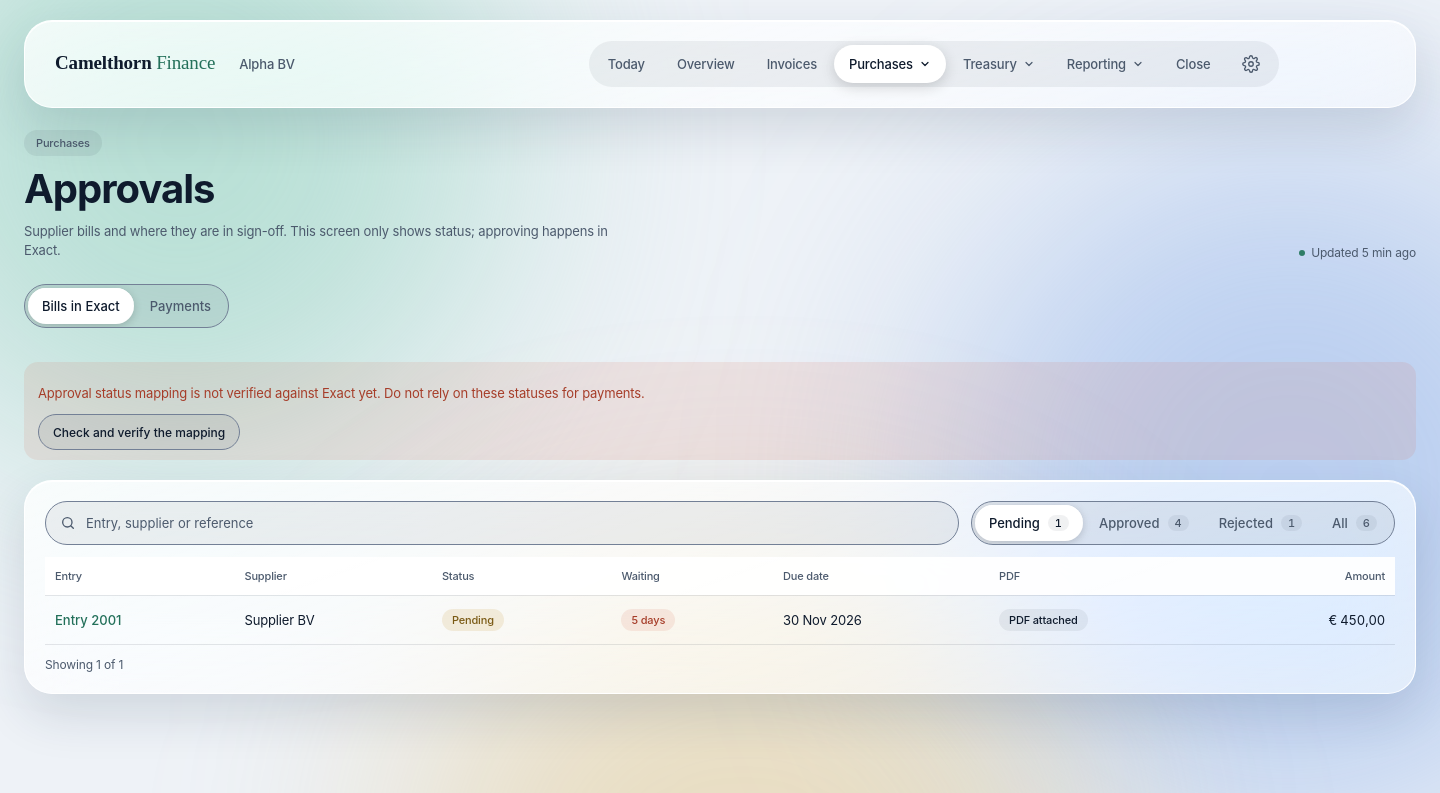
it: mapping not verified (review S2) › lets an admin check the raw codes and confirm, then reloads
Click the button "Check and verify the mapping": click(139, 432) [38,414,240,450]
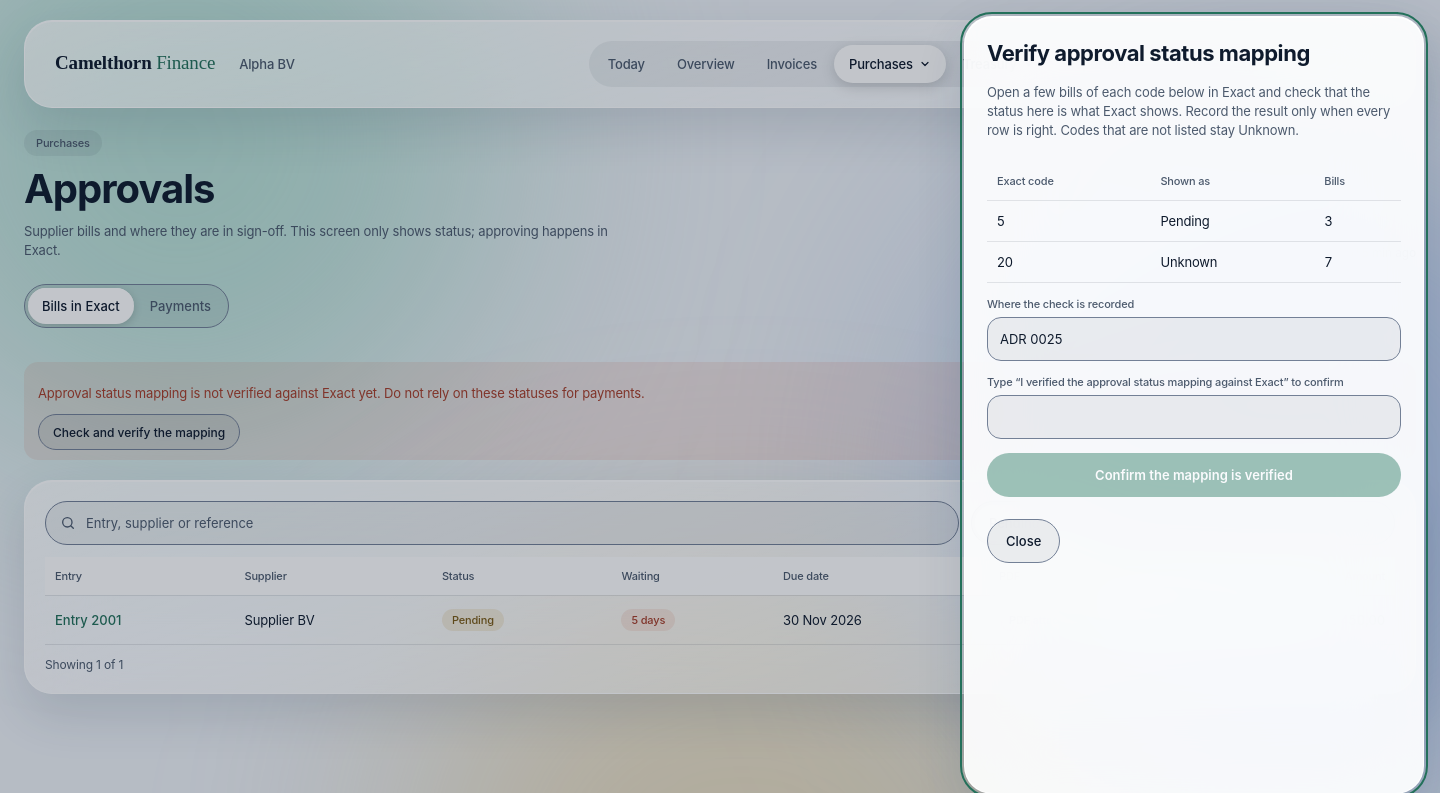
Check: the text "20" is shown, box [987,242,1150,282]
Check: the text "7" is shown, box [1314,242,1401,282]
Check: the button "Confirm the mapping is verified" is disabled, box [987,453,1401,497]
In the field labelled "to confirm": (1194, 417) [987,395,1401,439], type "I verified the approval status mapping"
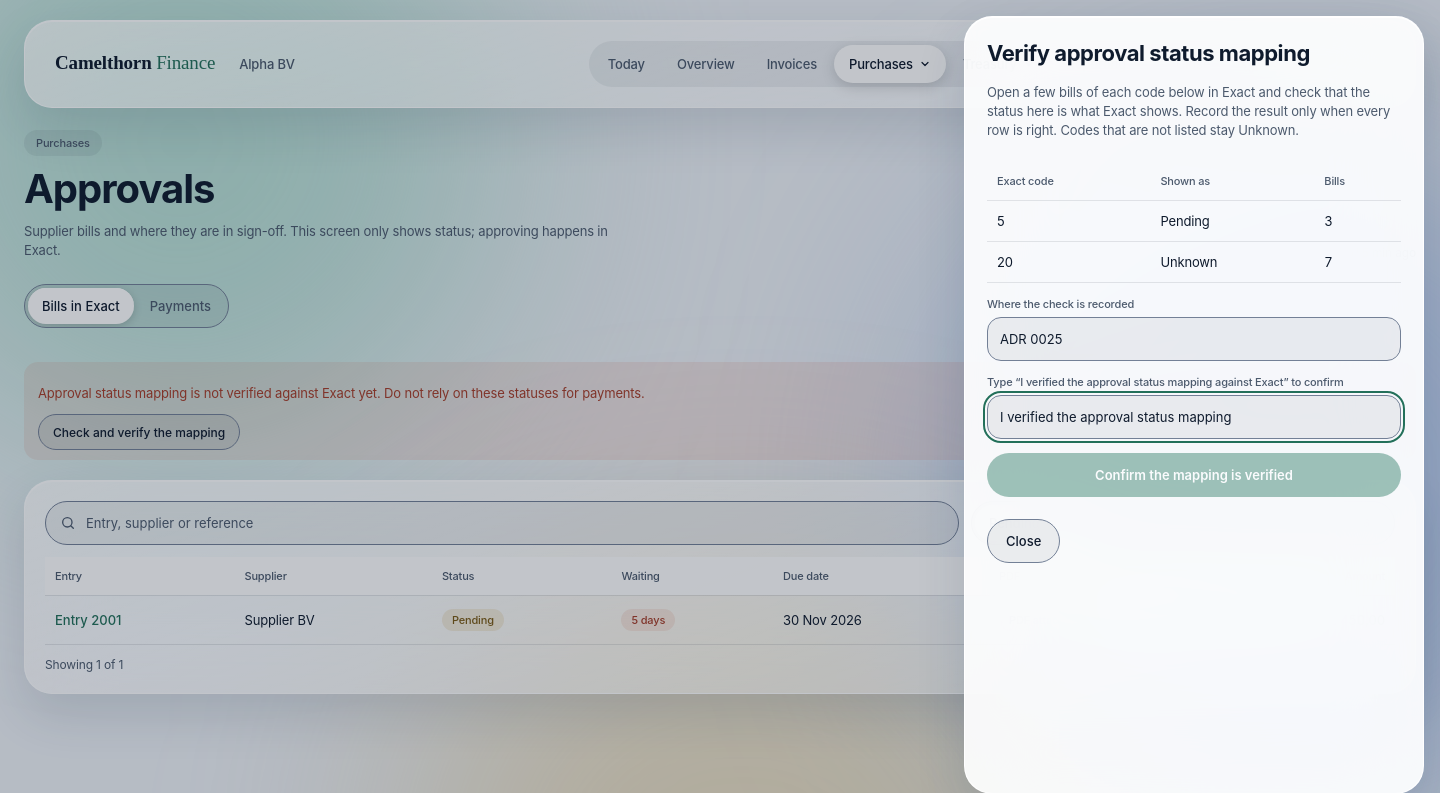
Check: the button "Confirm the mapping is verified" is disabled, box [987,453,1401,497]
In the field labelled "to confirm": (1194, 417) [987,395,1401,439], type " against Exact"
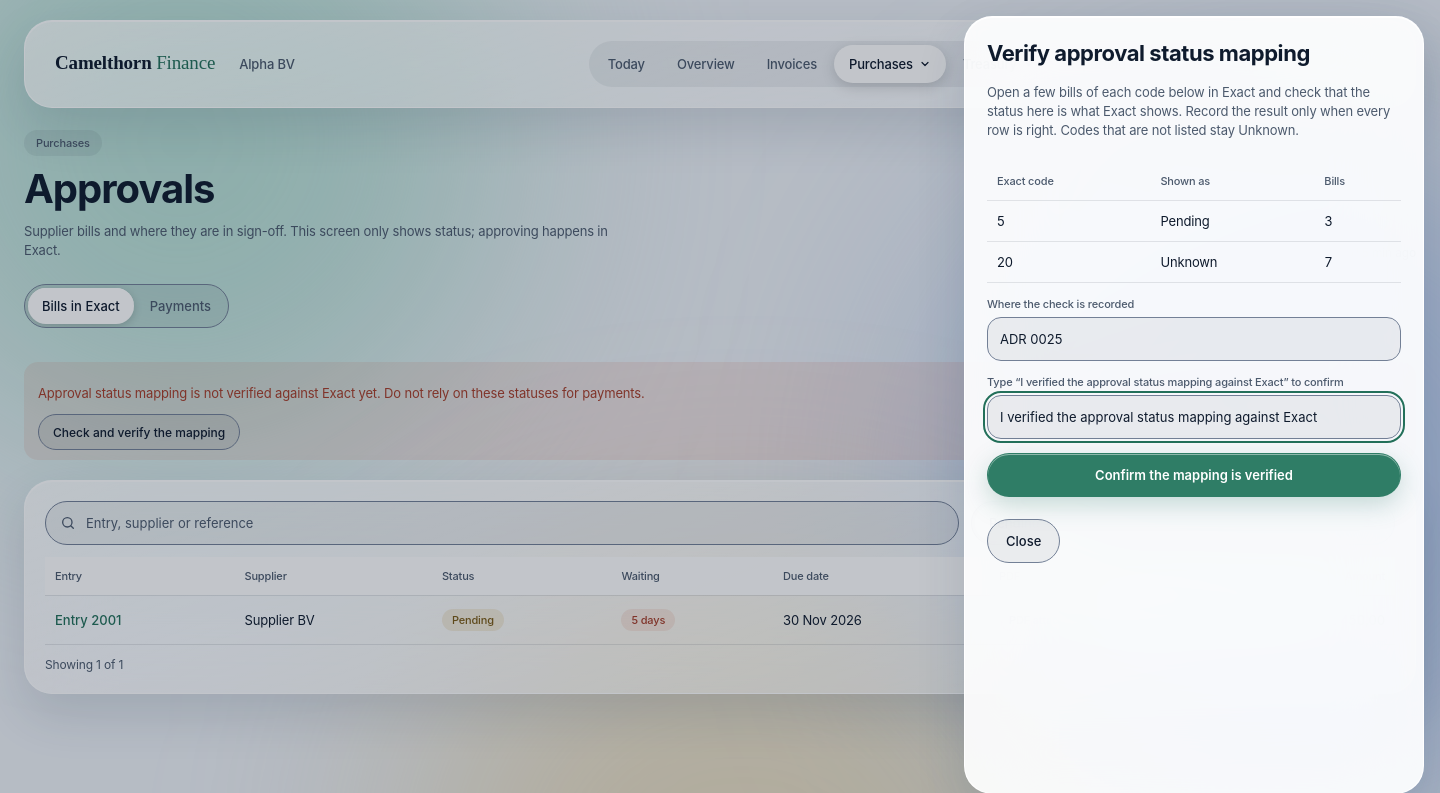
Check: the button "Confirm the mapping is verified" is enabled
Click the button "Confirm the mapping is verified": click(1194, 475) [987,453,1401,497]
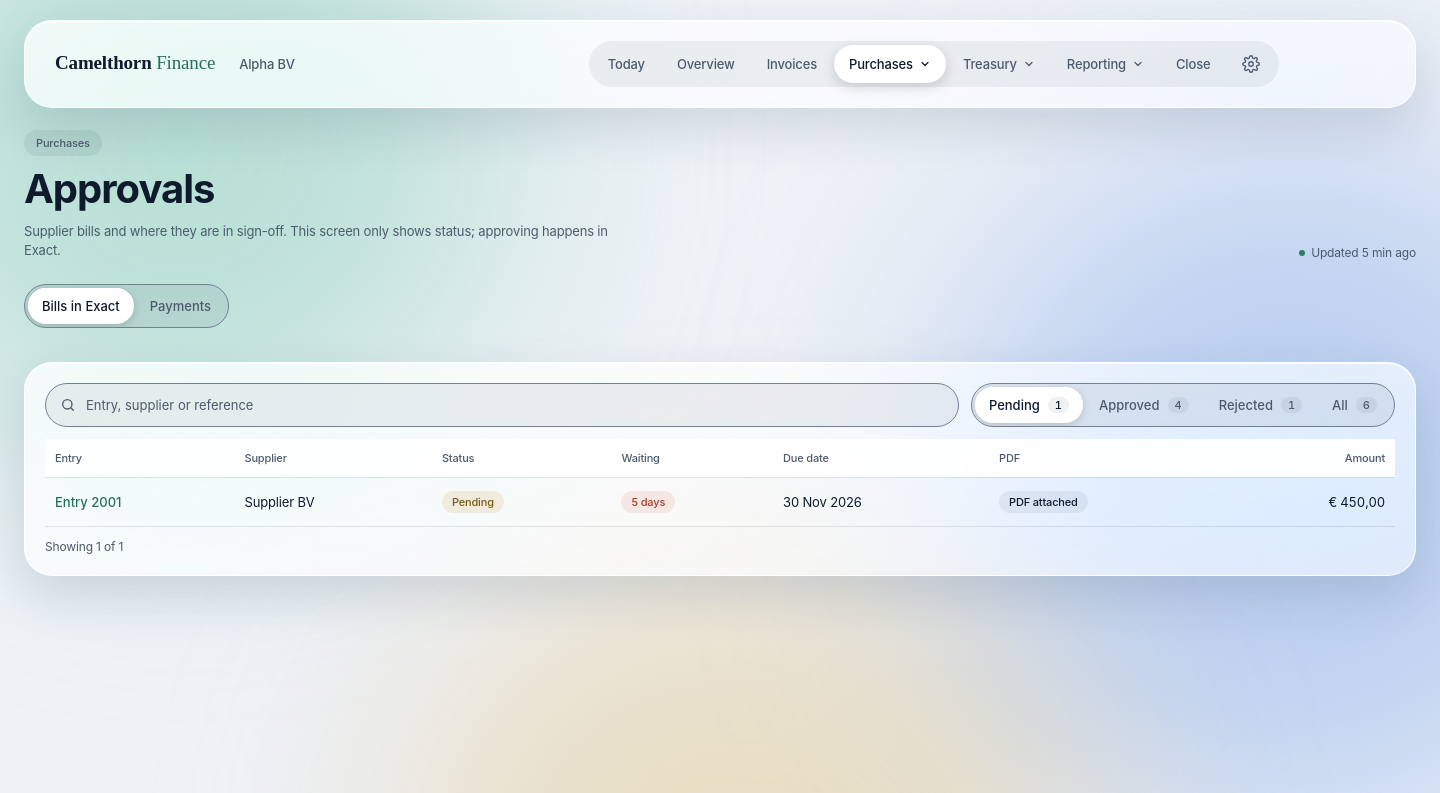
Check: the text "Approval status mapping is not verified against Exact yet. Do not rely on these statuses for payments." is gone
